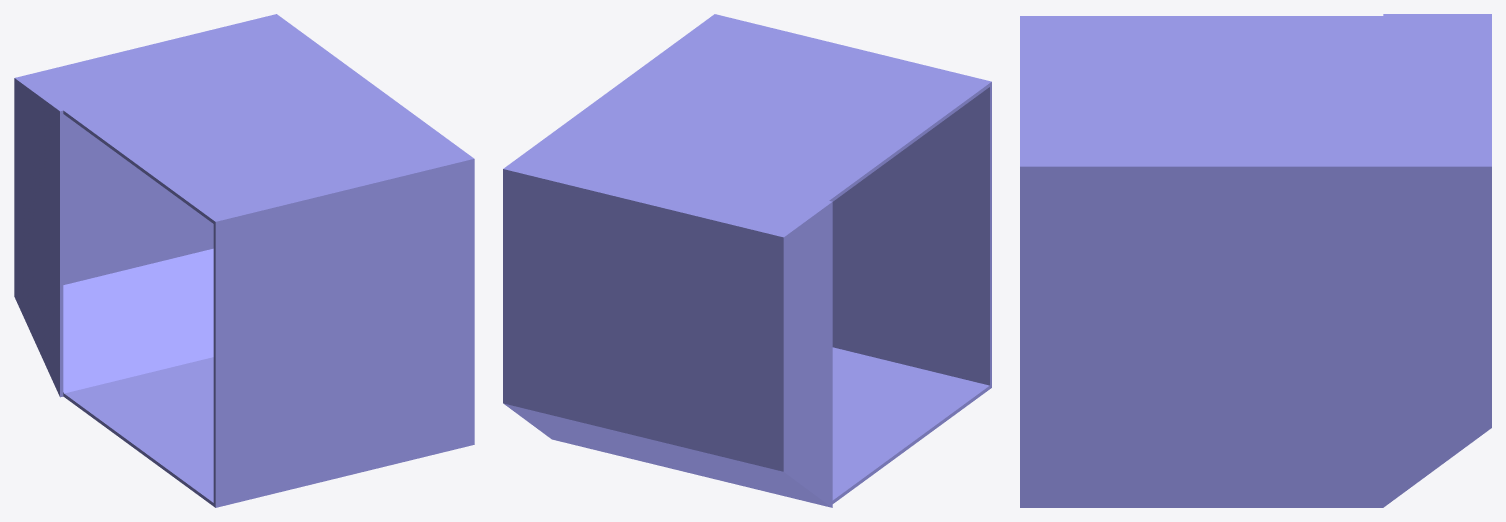
The model's file is PartBody 7.FBX.
3 views of the same model, side by side, from view 1: azimuth 30°, elevation 25°; view 2: azimuth 150°, elevation 25°; view 3: azimuth 270°, elevation 25° (orthographic). The views are drawn at different scales.
Visible parts, largest first — view 1: PartBody; view 2: PartBody; view 3: PartBody.
Part boxes in pixels (x1,y1,x2,y2): PartBody: [14, 14, 474, 507]; PartBody: [503, 14, 991, 507]; PartBody: [1020, 14, 1491, 507].
Size of the model in its own units: 155 by 203 by 162.
